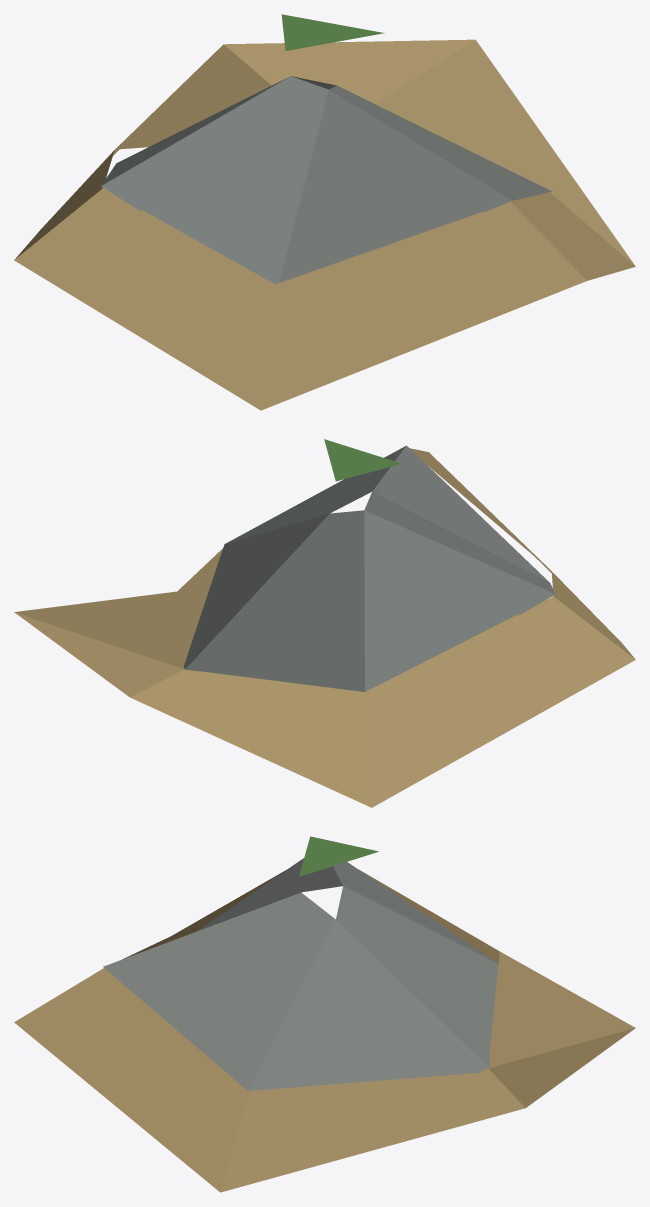
The model's file is coast-rocky-island.lod2.glb.
3 views of the same model, one above another, from view 1: azimuth 30°, elevation 25°; view 2: azimuth 150°, elevation 25°; view 3: azimuth 270°, elevation 25° (orthographic). The views are drawn at different scales.
Visible parts, largest first — view 1: coast-rocky-island__body; view 2: coast-rocky-island__body; view 3: coast-rocky-island__body.
Boxes of the visible parts, x1,y1,x2,y2 form: coast-rocky-island__body: (14,14,635,410); coast-rocky-island__body: (14,439,635,807); coast-rocky-island__body: (14,836,635,1192).
Bounding box in the file's own units: 12.38 × 5.23 × 12.94.
